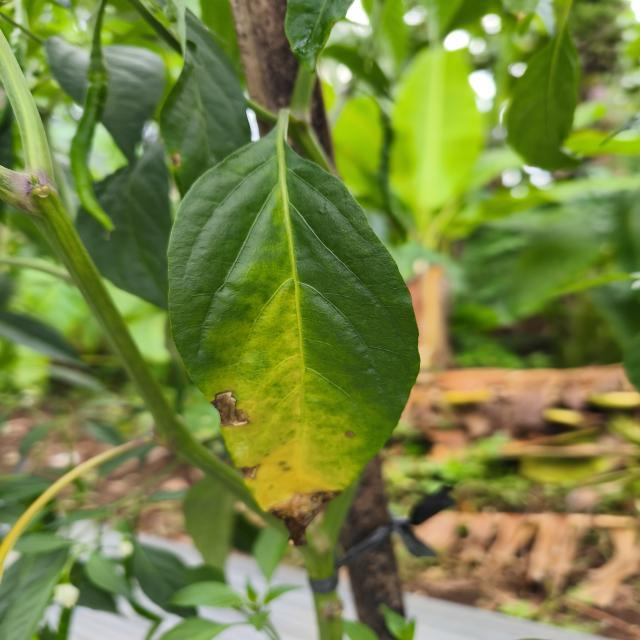Virus Kuning: (165, 107, 422, 543)
